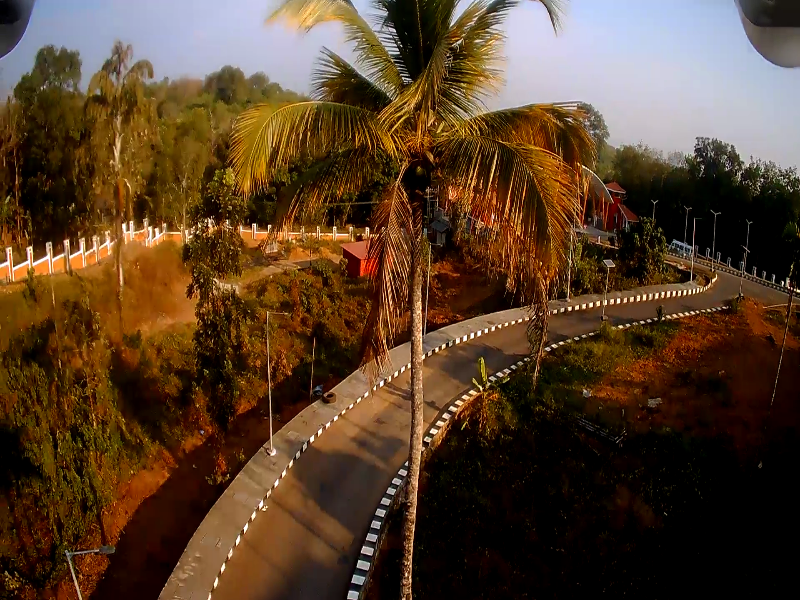coconut: (421, 145, 436, 169)
